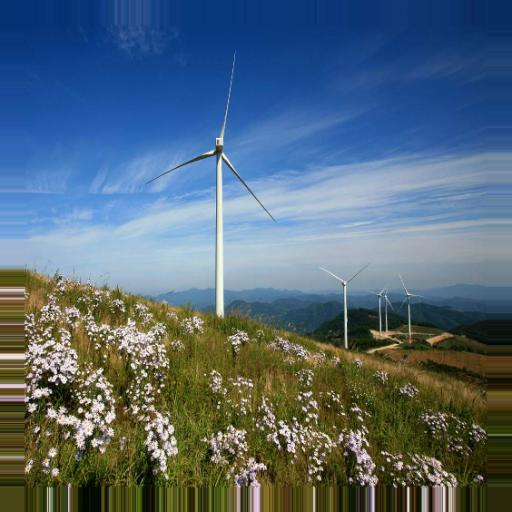wind turbine: (146, 49, 278, 325), (316, 259, 368, 354), (395, 275, 425, 341)
